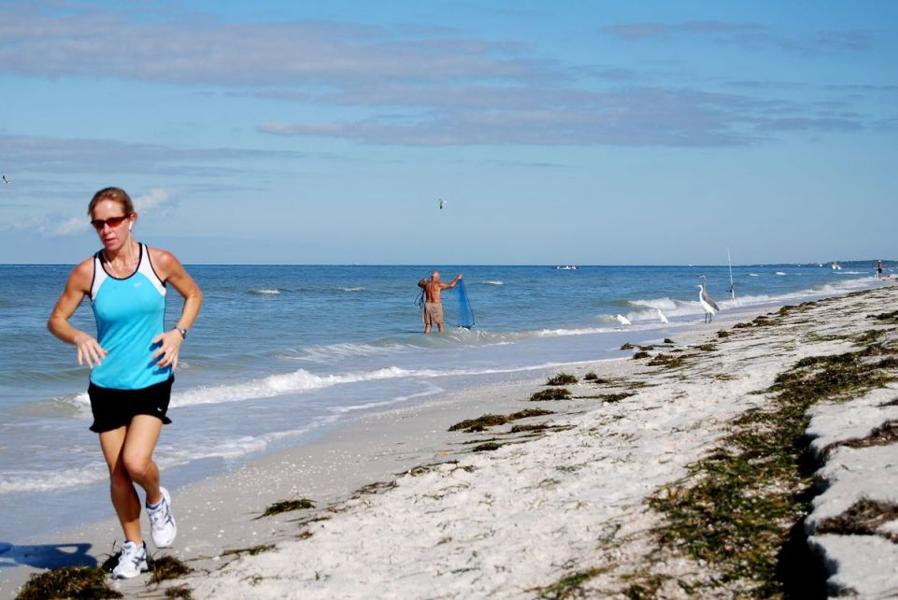person: (47, 189, 208, 584)
